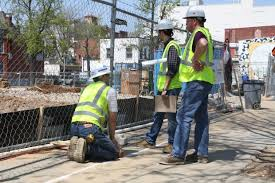hard hat: (89, 62, 111, 80), (181, 5, 206, 18), (154, 19, 174, 30)
high-vis: (180, 26, 213, 83), (71, 82, 111, 125), (157, 41, 181, 90)
